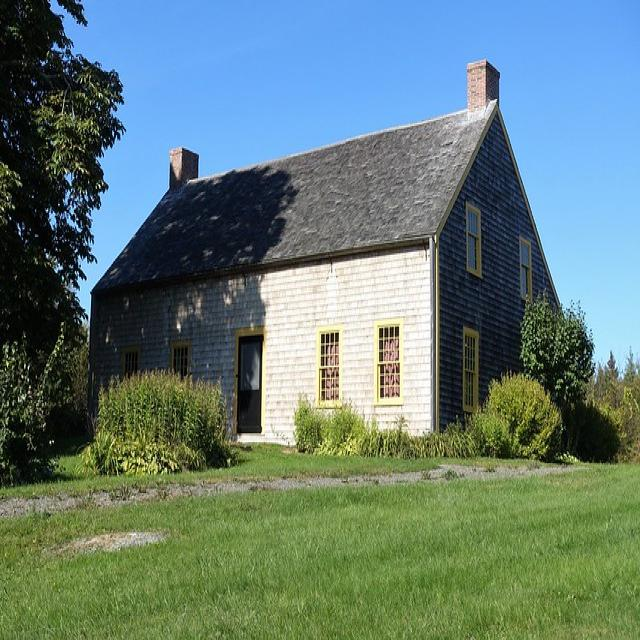building: (78, 56, 574, 464)
